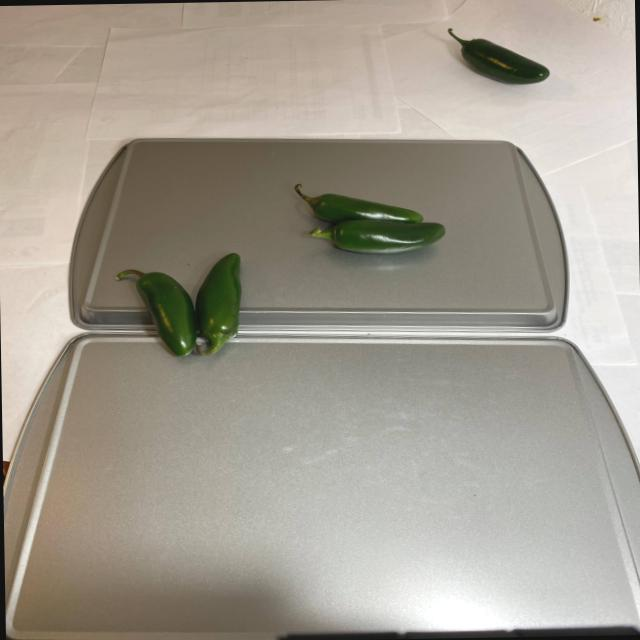chilli: (112, 249, 252, 367), (287, 178, 448, 256), (434, 22, 560, 98)
